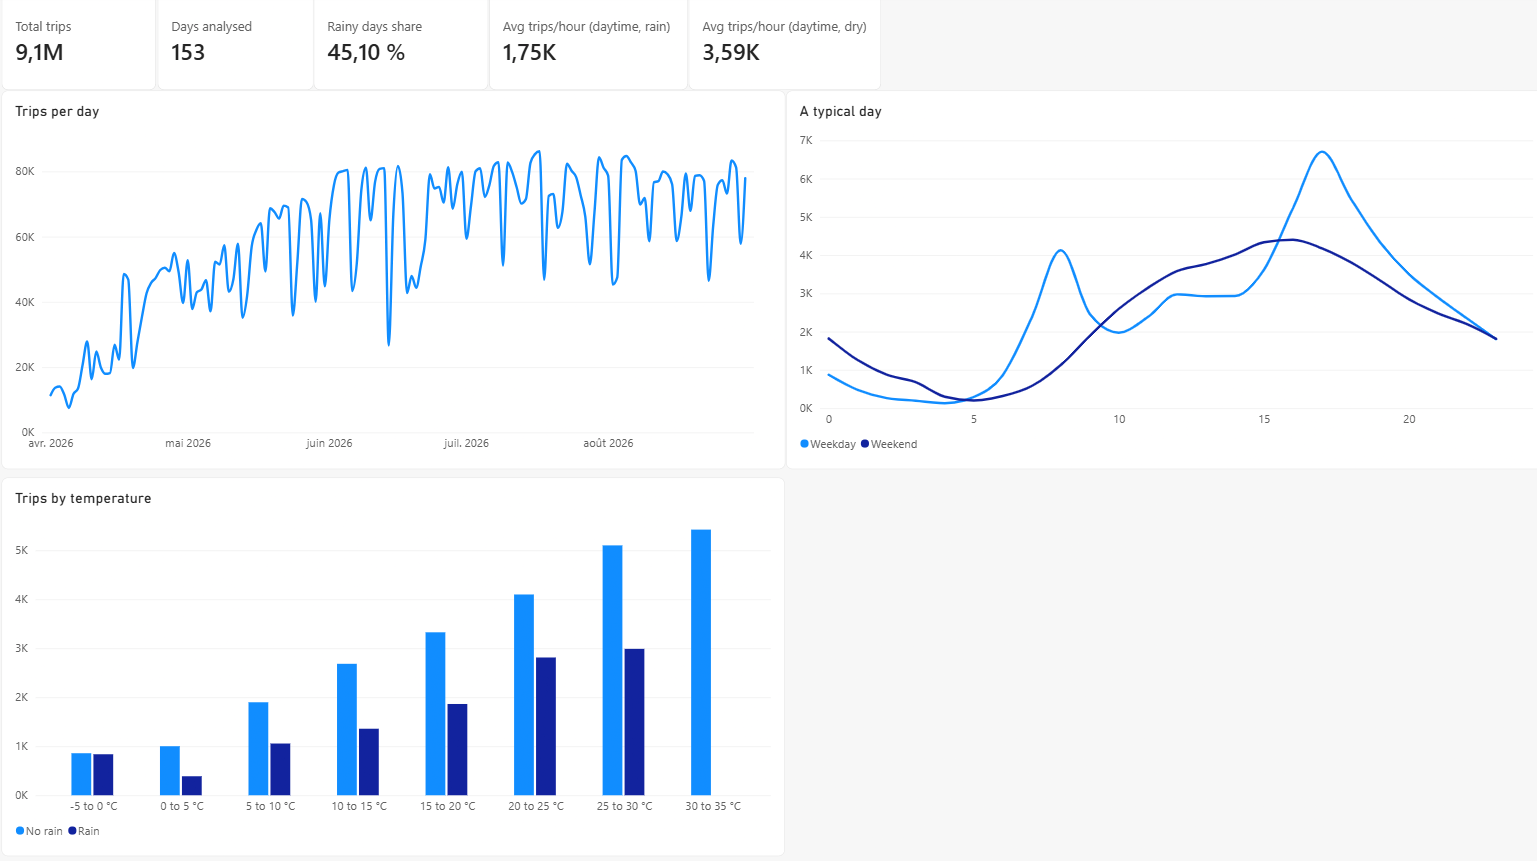

What the dashboard file says about the page in this screenshot:
{"tool":"powerbi","page":{"name":"Overview","canvas":[1920,1080],"ordinal":0},"visuals":[{"type":"cardVisual","fields":{"Data":["_Measures.Total trips"]},"box":[10.1,0,191.2,120.7],"z":0},{"type":"cardVisual","fields":{"Data":["_Measures.Days analysed"]},"box":[201.2,0,193.7,120.7],"z":1},{"type":"cardVisual","fields":{"Data":["_Measures.Rainy days share"]},"box":[394.9,0,216.3,120.7],"z":2},{"type":"cardVisual","fields":{"Data":["_Measures.Avg trips/hour (daytime, rain)"]},"box":[611.2,0,246.5,120.7],"z":3},{"type":"cardVisual","fields":{"Data":["_Measures.Avg trips/hour (daytime, dry)"]},"box":[857.7,0,239,120.7],"z":4},{"type":"lineChart","title":"Trips per day","fields":{"Category":["bixi vw_daily.date"],"Y":["Sum(bixi vw_daily.trips)"]},"box":[10.1,120.7,968.4,467.8],"z":5},{"type":"lineChart","title":"A typical day","fields":{"Category":["bixi vw_trips_by_hour.hour"],"Series":["bixi vw_trips_by_hour.day_type"],"Y":["Sum(bixi vw_trips_by_hour.avg_trips)"]},"box":[978.5,120.7,940.7,467.8],"z":6},{"type":"clusteredColumnChart","title":"Trips by temperature","fields":{"Category":["bixi vw_daytime_by_temp_rain.temp_bin"],"Series":["bixi vw_daytime_by_temp_rain.rain_label"],"Y":["Sum(bixi vw_daytime_by_temp_rain.avg_trips)"]},"box":[10,599,968,468],"z":7}]}

Visuals, with their boxes in screenshot pixels (x1, y1, x2, y2), scaled from the page's 1920x1080 canvas onto the 1537x861 screenshot:
cardVisual - _Measures.Total trips: [8, 0, 161, 96]
cardVisual - _Measures.Days analysed: [161, 0, 316, 96]
cardVisual - _Measures.Rainy days share: [316, 0, 489, 96]
cardVisual - _Measures.Avg trips/hour (daytime, rain): [489, 0, 687, 96]
cardVisual - _Measures.Avg trips/hour (daytime, dry): [687, 0, 878, 96]
"Trips per day" lineChart: [8, 96, 783, 469]
"A typical day" lineChart: [783, 96, 1536, 469]
"Trips by temperature" clusteredColumnChart: [8, 478, 783, 851]
